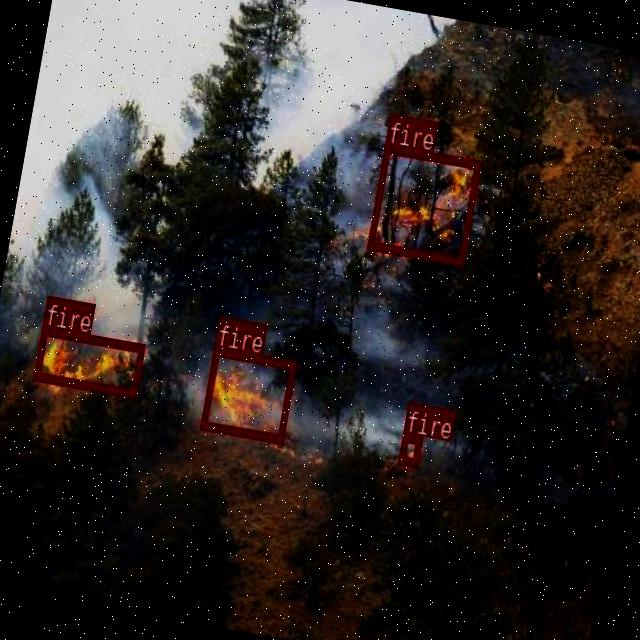fire: (366, 143, 481, 264), (198, 346, 296, 441), (33, 324, 144, 396), (397, 432, 421, 464)
